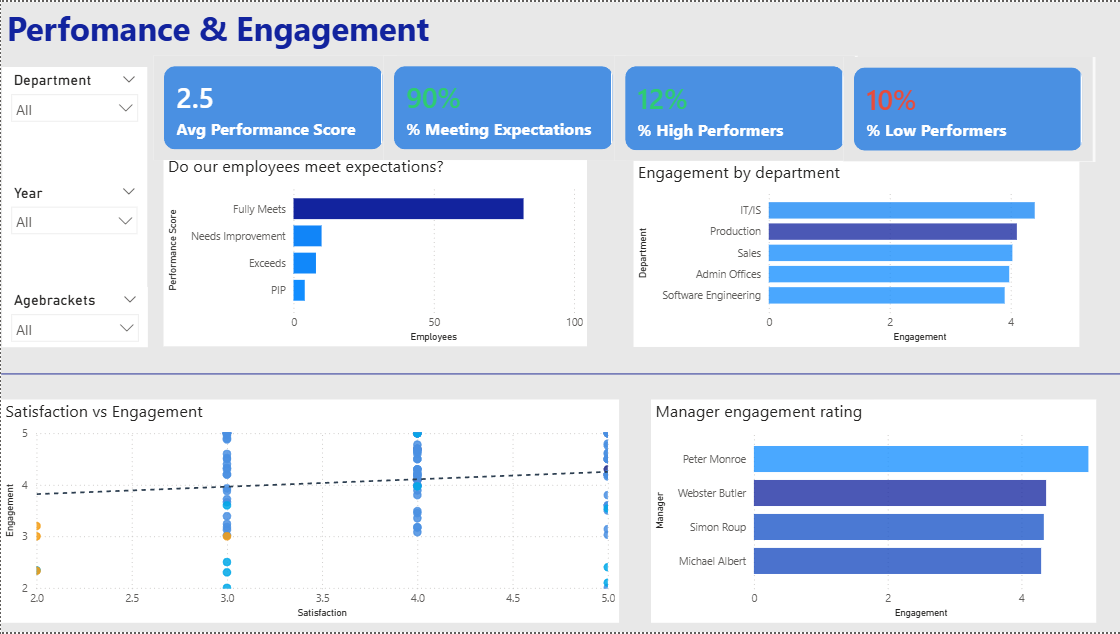

This screenshot's page, from the dashboard's own definition file:
{"tool":"powerbi","page":{"name":"P&E colored","canvas":[1280,720],"ordinal":2},"visuals":[{"type":"scatterChart","title":"Satisfaction vs Engagement","fields":{"Category":["employee_fact.EmpID"],"X":["Avg(employee_fact.EmpSatisfaction)"],"Y":["Avg(employee_fact.EngagementSurvey)"],"Series":["perfomance_dim.PerformanceScore"]},"box":[0,454.2,706.7,255.2],"z":0},{"type":"barChart","title":"Engagement by department","fields":{"Y":["Avg(employee_fact.EngagementSurvey)"],"Category":["departm_dim.Department"]},"box":[723.5,181.2,509.4,212.6],"z":1000},{"type":"barChart","title":"Do our employees meet expectations?","fields":{"Category":["perfomance_dim.PerformanceScore"],"Y":["CountNonNull(Employee_dim.EmpID)"]},"box":[185.2,174.3,484.4,219.6],"z":2000},{"type":"textbox","box":[1.4,0,601,68.6],"z":3000},{"type":"barChart","title":"Manager engagement rating","fields":{"Y":["Avg(employee_fact.EngagementSurvey)"],"Category":["manager_dim.ManagerName"]},"box":[742.4,454.2,509.1,255.2],"z":4000},{"type":"shape","box":[0,395.7,1280,58.6],"z":5000},{"type":"group","id":"g1","title":"Group 2","box":[1.4,74.1,166,319.7],"z":6000},{"type":"cardVisual","fields":{"Data":["Avg(perfomance_dim.Performance Score)"]},"box":[174.3,61.4,277.2,119.3],"z":7000},{"type":"slicer","fields":{"Values":["departm_dim.Department"]},"box":[1.6,74.1,164.9,103.4],"z":7000,"group":"g1"},{"type":"cardVisual","fields":{"Data":["Employee_dim.Meets expectations"]},"box":[437.5,61.6,277.1,119.4],"z":8000},{"type":"slicer","fields":{"Values":["dim_date.Year"]},"box":[1.6,202.4,164.7,120.3],"z":8000,"group":"g1"},{"type":"cardVisual","fields":{"Data":["Employee_dim.% High Performers"]},"box":[701.2,61.2,277.5,120],"z":9000},{"type":"slicer","fields":{"Values":["Employee_dim.Agebrackets"]},"box":[1.4,325,166,68.8],"z":9000,"group":"g1"},{"type":"cardVisual","fields":{"Data":["Employee_dim.%Low Performers"]},"box":[963.2,62.8,288.2,119.9],"z":10000}]}

Visuals, with their boxes in screenshot pixels (x1, y1, x2, y2), scaled from the page's 1280x720 canvas onto the 1120x634 screenshot:
"Satisfaction vs Engagement" scatterChart: [x1=0, y1=400, x2=618, y2=625]
"Engagement by department" barChart: [x1=633, y1=160, x2=1079, y2=347]
"Do our employees meet expectations?" barChart: [x1=162, y1=153, x2=586, y2=347]
textbox: [x1=1, y1=0, x2=527, y2=60]
"Manager engagement rating" barChart: [x1=650, y1=400, x2=1095, y2=625]
shape: [x1=0, y1=348, x2=1119, y2=400]
"Group 2" group: [x1=1, y1=65, x2=146, y2=347]
cardVisual - Avg(perfomance_dim.Performance Score): [x1=153, y1=54, x2=395, y2=159]
slicer - departm_dim.Department: [x1=1, y1=65, x2=146, y2=156]
cardVisual - Employee_dim.Meets expectations: [x1=383, y1=54, x2=625, y2=159]
slicer - dim_date.Year: [x1=1, y1=178, x2=146, y2=284]
cardVisual - Employee_dim.% High Performers: [x1=614, y1=54, x2=856, y2=160]
slicer - Employee_dim.Agebrackets: [x1=1, y1=286, x2=146, y2=347]
cardVisual - Employee_dim.%Low Performers: [x1=843, y1=55, x2=1095, y2=161]
